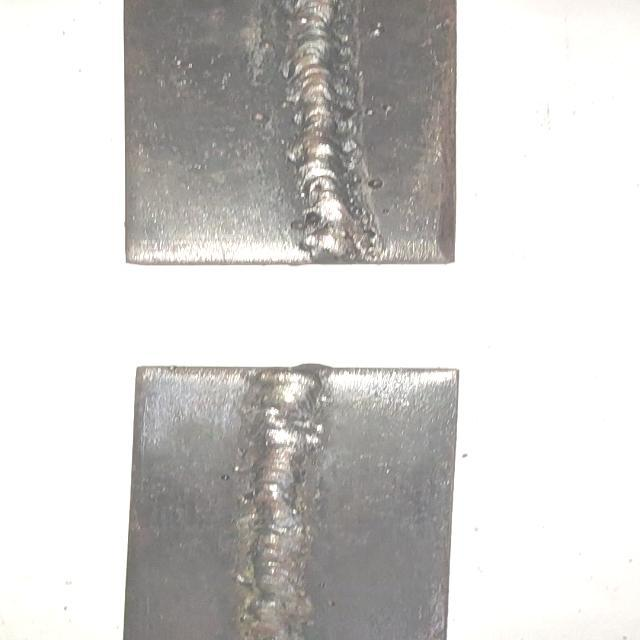Welding Line: (278, 0, 369, 257), (246, 371, 316, 640)
Workpiece: (123, 364, 463, 640), (117, 0, 467, 268)
